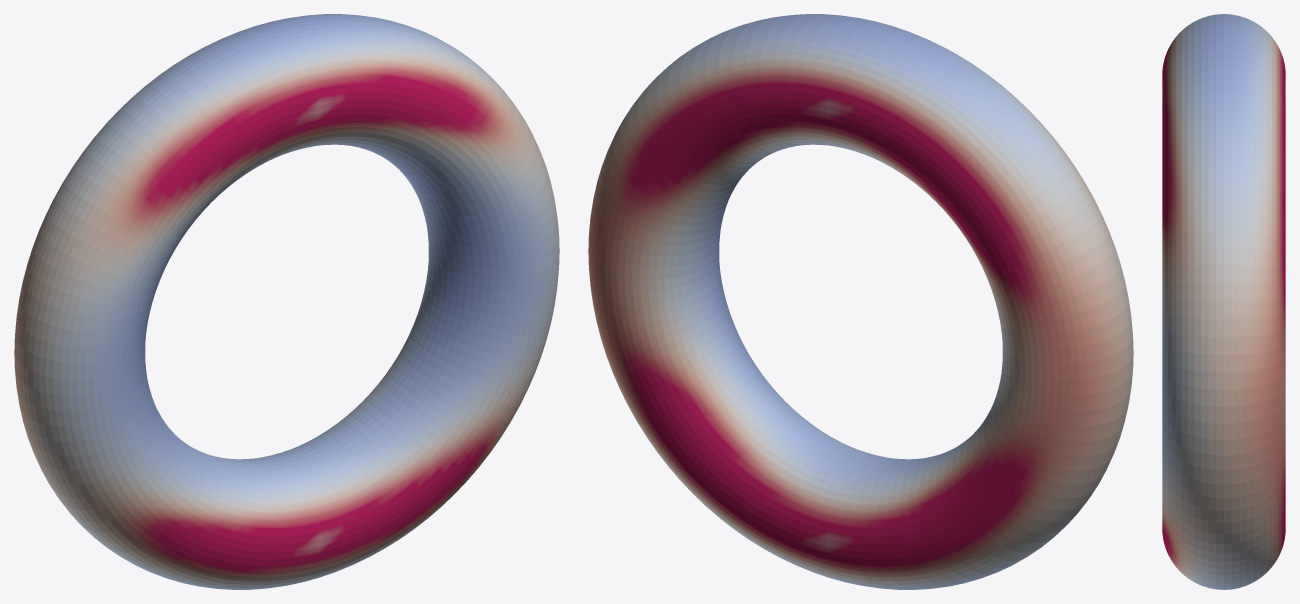
3 views of the same model, side by side, from view 1: azimuth 30°, elevation 25°; view 2: azimuth 150°, elevation 25°; view 3: azimuth 270°, elevation 25° (orthographic). The views are drawn at different scales.
Visible parts, largest first — view 1: world; view 2: world; view 3: world.
Boxes of the visible parts, x1,y1,x2,y2 form: world: (14, 14, 559, 589); world: (588, 14, 1133, 589); world: (1162, 14, 1285, 589).
Size of the model in its own units: 25.47 by 25.47 by 5.46.
